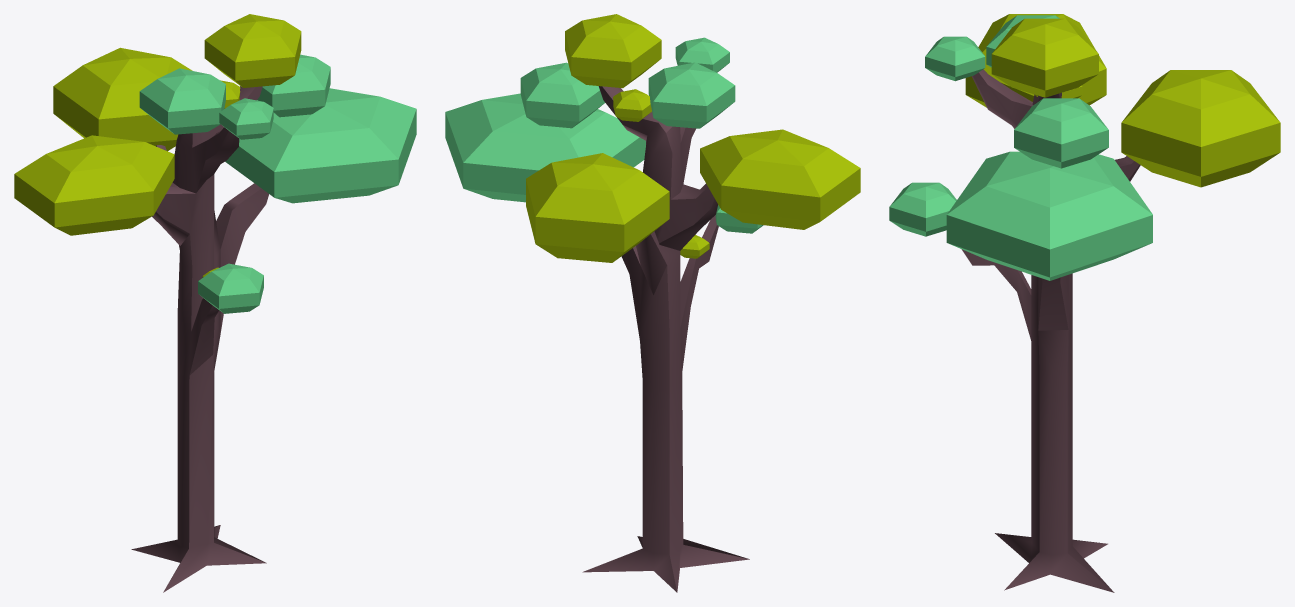
File: Tree_Smol.fbx
The picture shows the model from 3 angles, left to right: view 1: azimuth 30°, elevation 25°; view 2: azimuth 150°, elevation 25°; view 3: azimuth 270°, elevation 25°; orthographic projection. The views are drawn at different scales.
Parts seen in each view (by area): view 1: Assets2:Tree:TreeInPot, Assets2:Tree:Leaves, Assets2:Tree:Leaves7, Assets2:Tree:Leaves6, Assets2:Tree:Leaves4, Assets2:Tree:Leaves8, Assets2:Tree:Leaves13, Assets2:Tree:Leaves11, Assets2:Tree:Leaves9; view 2: Assets2:Tree:TreeInPot, Assets2:Tree:Leaves6, Assets2:Tree:Leaves7, Assets2:Tree:Leaves, Assets2:Tree:Leaves4, Assets2:Tree:Leaves8, Assets2:Tree:Leaves13, Assets2:Tree:Leaves9, Assets2:Tree:Leaves5, Assets2:Tree:Leaves11; view 3: Assets2:Tree:Leaves, Assets2:Tree:TreeInPot, Assets2:Tree:Leaves6, Assets2:Tree:Leaves4, Assets2:Tree:Leaves13, Assets2:Tree:Leaves11, Assets2:Tree:Leaves9, Assets2:Tree:Leaves7, Assets2:Tree:Leaves8.
Part boxes in pixels (box(x1,y1,x2,y2)): Assets2:Tree:TreeInPot: box(131, 86, 268, 592); Assets2:Tree:Leaves: box(225, 88, 416, 203); Assets2:Tree:Leaves7: box(14, 135, 174, 235); Assets2:Tree:Leaves6: box(53, 47, 192, 151); Assets2:Tree:Leaves4: box(204, 14, 301, 87); Assets2:Tree:Leaves8: box(139, 68, 225, 134); Assets2:Tree:Leaves13: box(257, 54, 330, 117); Assets2:Tree:Leaves11: box(198, 263, 263, 313); Assets2:Tree:Leaves9: box(219, 98, 273, 139); Assets2:Tree:TreeInPot: box(582, 86, 749, 592); Assets2:Tree:Leaves6: box(526, 153, 669, 262); Assets2:Tree:Leaves7: box(700, 129, 860, 229); Assets2:Tree:Leaves: box(445, 93, 645, 202); Assets2:Tree:Leaves4: box(565, 14, 661, 88); Assets2:Tree:Leaves8: box(648, 62, 735, 128); Assets2:Tree:Leaves13: box(520, 62, 605, 128); Assets2:Tree:Leaves9: box(675, 37, 729, 72); Assets2:Tree:Leaves5: box(613, 89, 651, 121); Assets2:Tree:Leaves11: box(715, 205, 763, 233); Assets2:Tree:Leaves: box(946, 151, 1152, 280); Assets2:Tree:TreeInPot: box(961, 69, 1140, 592); Assets2:Tree:Leaves6: box(1121, 70, 1280, 187); Assets2:Tree:Leaves4: box(991, 18, 1098, 97); Assets2:Tree:Leaves13: box(1014, 98, 1108, 168); Assets2:Tree:Leaves11: box(889, 182, 956, 236); Assets2:Tree:Leaves9: box(925, 36, 985, 81); Assets2:Tree:Leaves7: box(965, 14, 1106, 107); Assets2:Tree:Leaves8: box(986, 15, 1059, 67).
Size of the model in its own units: 3.25 by 4.21 by 2.61.
